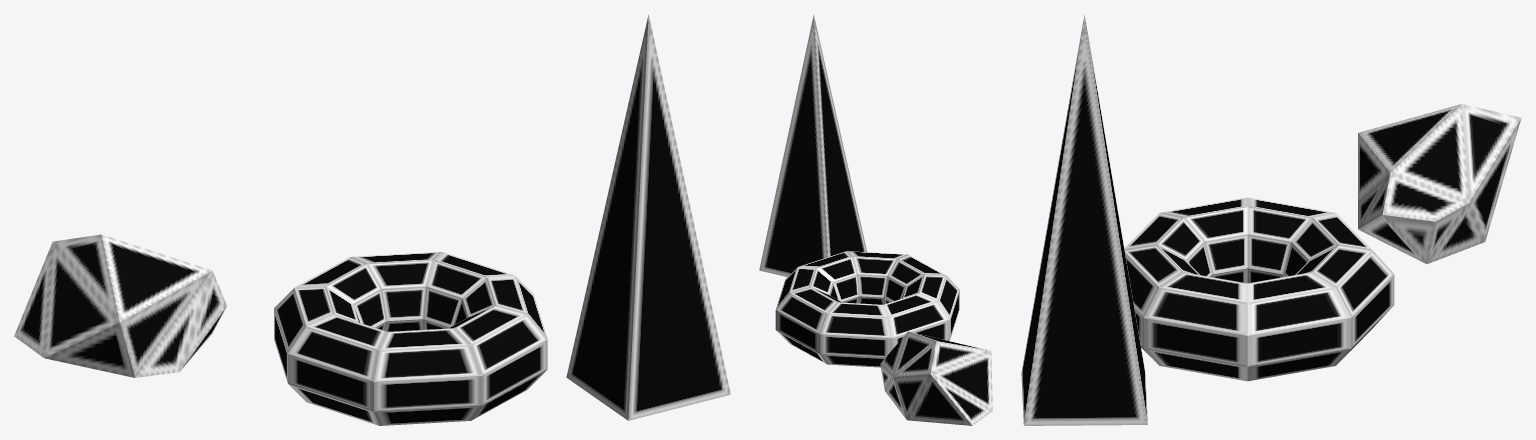
The model's file is TronProps.fbx.
3 renders of one model, left to right at view 1: azimuth 30°, elevation 25°; view 2: azimuth 150°, elevation 25°; view 3: azimuth 270°, elevation 25°, orthographic. The views are drawn at different scales.
Visible parts, largest first — view 1: TronTorus, TronPyramid, TronRock; view 2: TronTorus, TronPyramid, TronRock; view 3: TronTorus, TronPyramid, TronRock.
Part boxes in pixels (box(x1,y1,x2,y2)): TronTorus: box(274, 252, 547, 425); TronPyramid: box(566, 14, 730, 420); TronRock: box(14, 234, 226, 377); TronTorus: box(775, 251, 959, 367); TronPyramid: box(759, 14, 866, 276); TronRock: box(880, 331, 992, 425); TronTorus: box(1124, 197, 1394, 381); TronPyramid: box(1021, 15, 1147, 425); TronRock: box(1358, 104, 1521, 264).
Size of the model in its own units: 110 by 83.42 by 94.45.
